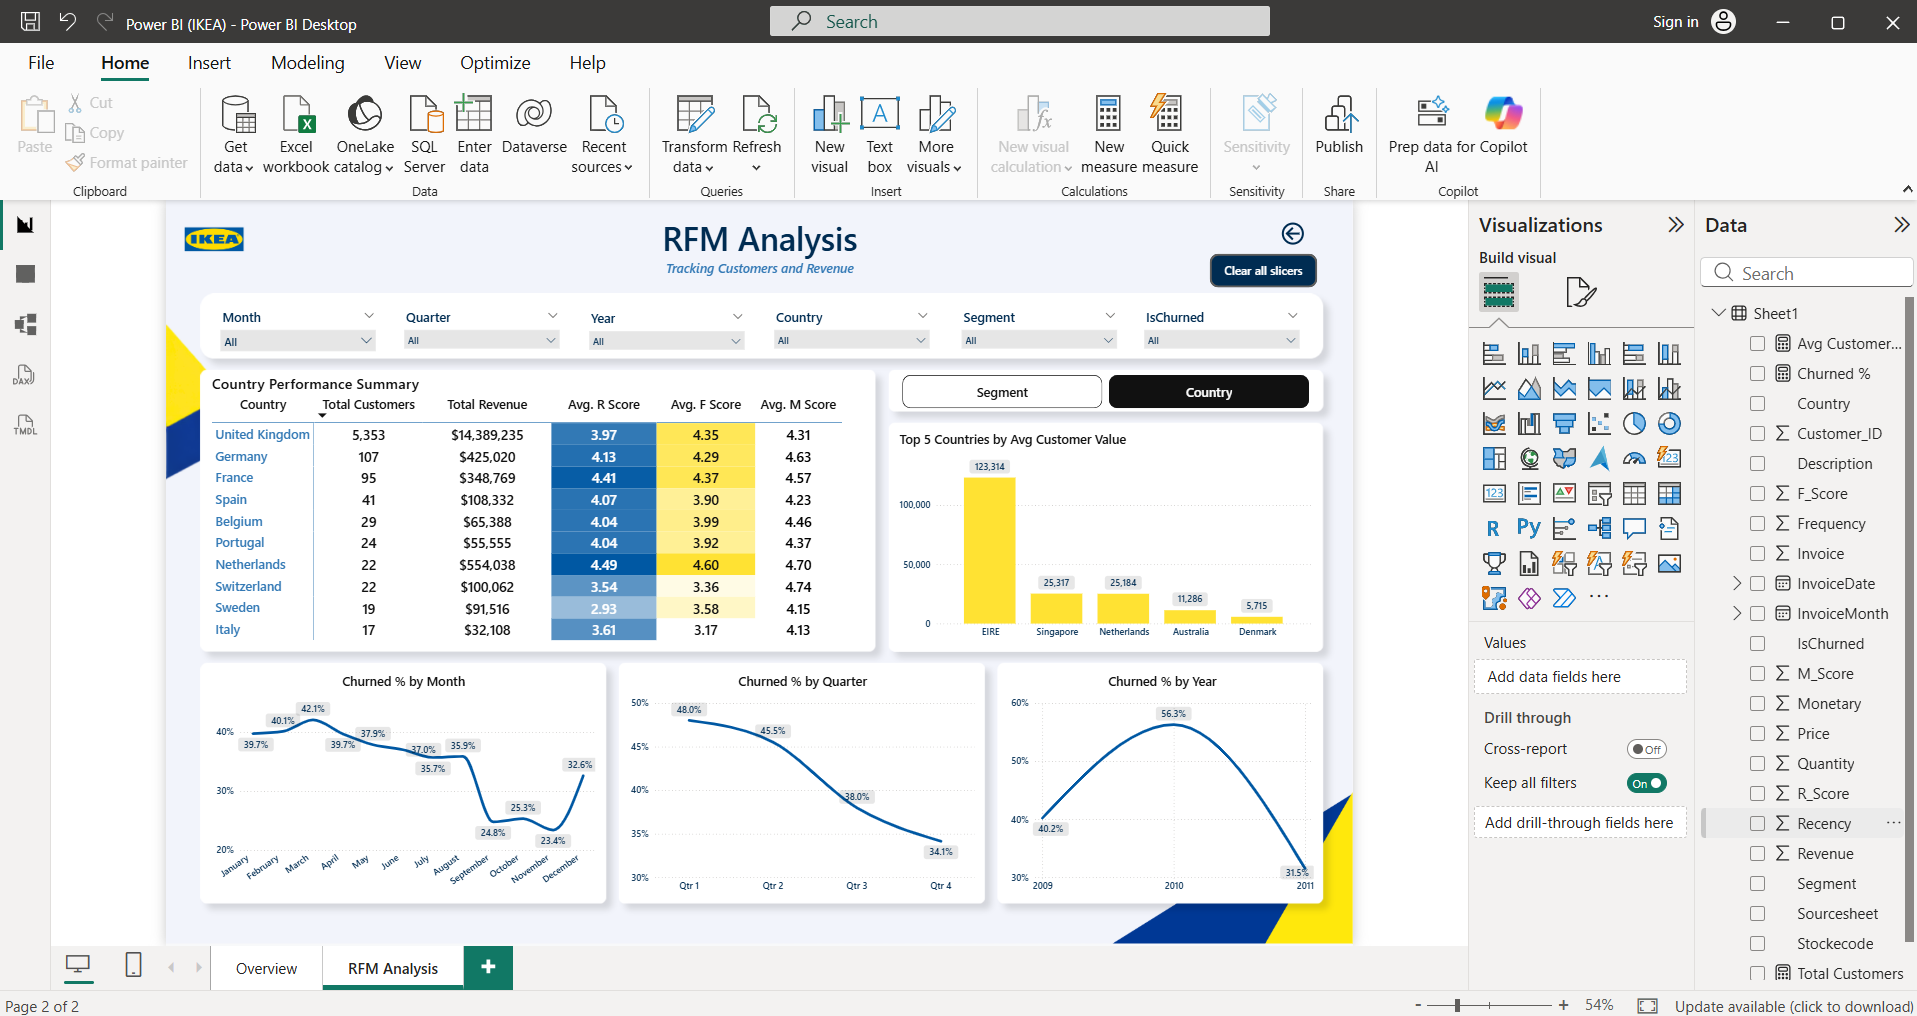

Layout of this report page (visuals, bound fields, positions):
{"tool":"powerbi","page":{"name":"RFM Analysis","canvas":[1750,1100],"ordinal":1},"visuals":[{"type":"slicer","fields":{"Values":["Sheet1.InvoiceMonth.Variation.Date Hierarchy.Month"]},"box":[69.4,155.6,249.3,69.4],"z":0},{"type":"pivotTable","title":"Segment Performance Summary","fields":{"Rows":["Sheet1.Segment"],"Values":["Sheet1.Total Customers","Sheet1.Total Revenue","Avg(Sheet1.R_Score)","Avg(Sheet1.F_Score)","Avg(Sheet1.M_Score)"]},"box":[62.7,261,973,394.4],"z":0,"group":"g2"},{"type":"lineChart","title":"Churned % by Month","fields":{"Category":["Sheet1.InvoiceMonth.Variation.Date Hierarchy.Month"],"Y":["Sheet1.Churned %"]},"box":[61.9,697.3,575.5,333.7],"z":0,"group":"g1"},{"type":"slicer","fields":{"Values":["Sheet1.InvoiceDate.Variation.Date Hierarchy.Quarter"]},"box":[341.2,155.6,249.3,69.4],"z":1000},{"type":"clusteredColumnChart","title":"Segment by Avg Customer Value","fields":{"Category":["Sheet1.Segment"],"Y":["Sheet1.Avg Customer Value"]},"box":[1076.4,339.1,619.3,317],"z":1000,"group":"g2"},{"type":"lineChart","fields":{"Category":["Sheet1.InvoiceMonth.Variation.Date Hierarchy.Year"],"Y":["Sheet1.Churned %"]},"box":[1239.1,697.3,457.4,333.7],"z":1000,"group":"g1"},{"type":"slicer","fields":{"Values":["Sheet1.InvoiceDate.Variation.Date Hierarchy.Year"]},"box":[613,157.5,249.3,69.4],"z":2000},{"type":"lineChart","fields":{"Category":["Sheet1.InvoiceMonth.Variation.Date Hierarchy.Quarter"],"Y":["Sheet1.Churned %"]},"box":[678.6,697.3,517.4,333.7],"z":2000,"group":"g1"},{"type":"slicer","fields":{"Values":["Sheet1.Segment"]},"box":[1162.2,155.6,249.3,69.4],"z":3000},{"type":"slicer","fields":{"Values":["Sheet1.Country"]},"box":[886.6,155.6,249.3,69.4],"z":4000},{"type":"slicer","fields":{"Values":["Sheet1.IsChurned"]},"box":[1432.1,155.6,249.3,69.4],"z":5000},{"type":"group","id":"g1","title":"Revenue","box":[61.9,697.3,1634.5,333.7],"z":7000},{"type":"bookmarkNavigator","box":[1085.6,258,600.9,49.8],"z":8000},{"type":"image","box":[7.4,20.3,127.2,75.6],"z":9000},{"type":"textbox","box":[588,18.4,575.1,119.8],"z":10000},{"type":"actionButton","box":[1625.7,18.4,71.9,62.7],"z":11000},{"type":"actionButton","box":[1539,79.3,158.5,49.8],"z":12000},{"type":"group","id":"g2","title":"Segment","box":[62.7,261,1633.1,395.2],"z":14000}]}

Visuals, with their boxes on the page's 1750x1100 design canvas (x1, y1, x2, y2). These are canvas units, not pixel positions in the 1917x1016 screenshot, which may show the page scaled, cropped or inside an application window:
slicer - Sheet1.InvoiceMonth.Variation.Date Hierarchy.Month: box(69, 156, 319, 225)
"Segment Performance Summary" pivotTable: box(63, 261, 1036, 655)
"Churned % by Month" lineChart: box(62, 697, 637, 1031)
slicer - Sheet1.InvoiceDate.Variation.Date Hierarchy.Quarter: box(341, 156, 590, 225)
"Segment by Avg Customer Value" clusteredColumnChart: box(1076, 339, 1696, 656)
lineChart - Sheet1.InvoiceMonth.Variation.Date Hierarchy.Year x Sheet1.Churned %: box(1239, 697, 1696, 1031)
slicer - Sheet1.InvoiceDate.Variation.Date Hierarchy.Year: box(613, 158, 862, 227)
lineChart - Sheet1.InvoiceMonth.Variation.Date Hierarchy.Quarter x Sheet1.Churned %: box(679, 697, 1196, 1031)
slicer - Sheet1.Segment: box(1162, 156, 1412, 225)
slicer - Sheet1.Country: box(887, 156, 1136, 225)
slicer - Sheet1.IsChurned: box(1432, 156, 1681, 225)
"Revenue" group: box(62, 697, 1696, 1031)
bookmarkNavigator: box(1086, 258, 1686, 308)
image: box(7, 20, 135, 96)
textbox: box(588, 18, 1163, 138)
actionButton: box(1626, 18, 1698, 81)
actionButton: box(1539, 79, 1698, 129)
"Segment" group: box(63, 261, 1696, 656)
